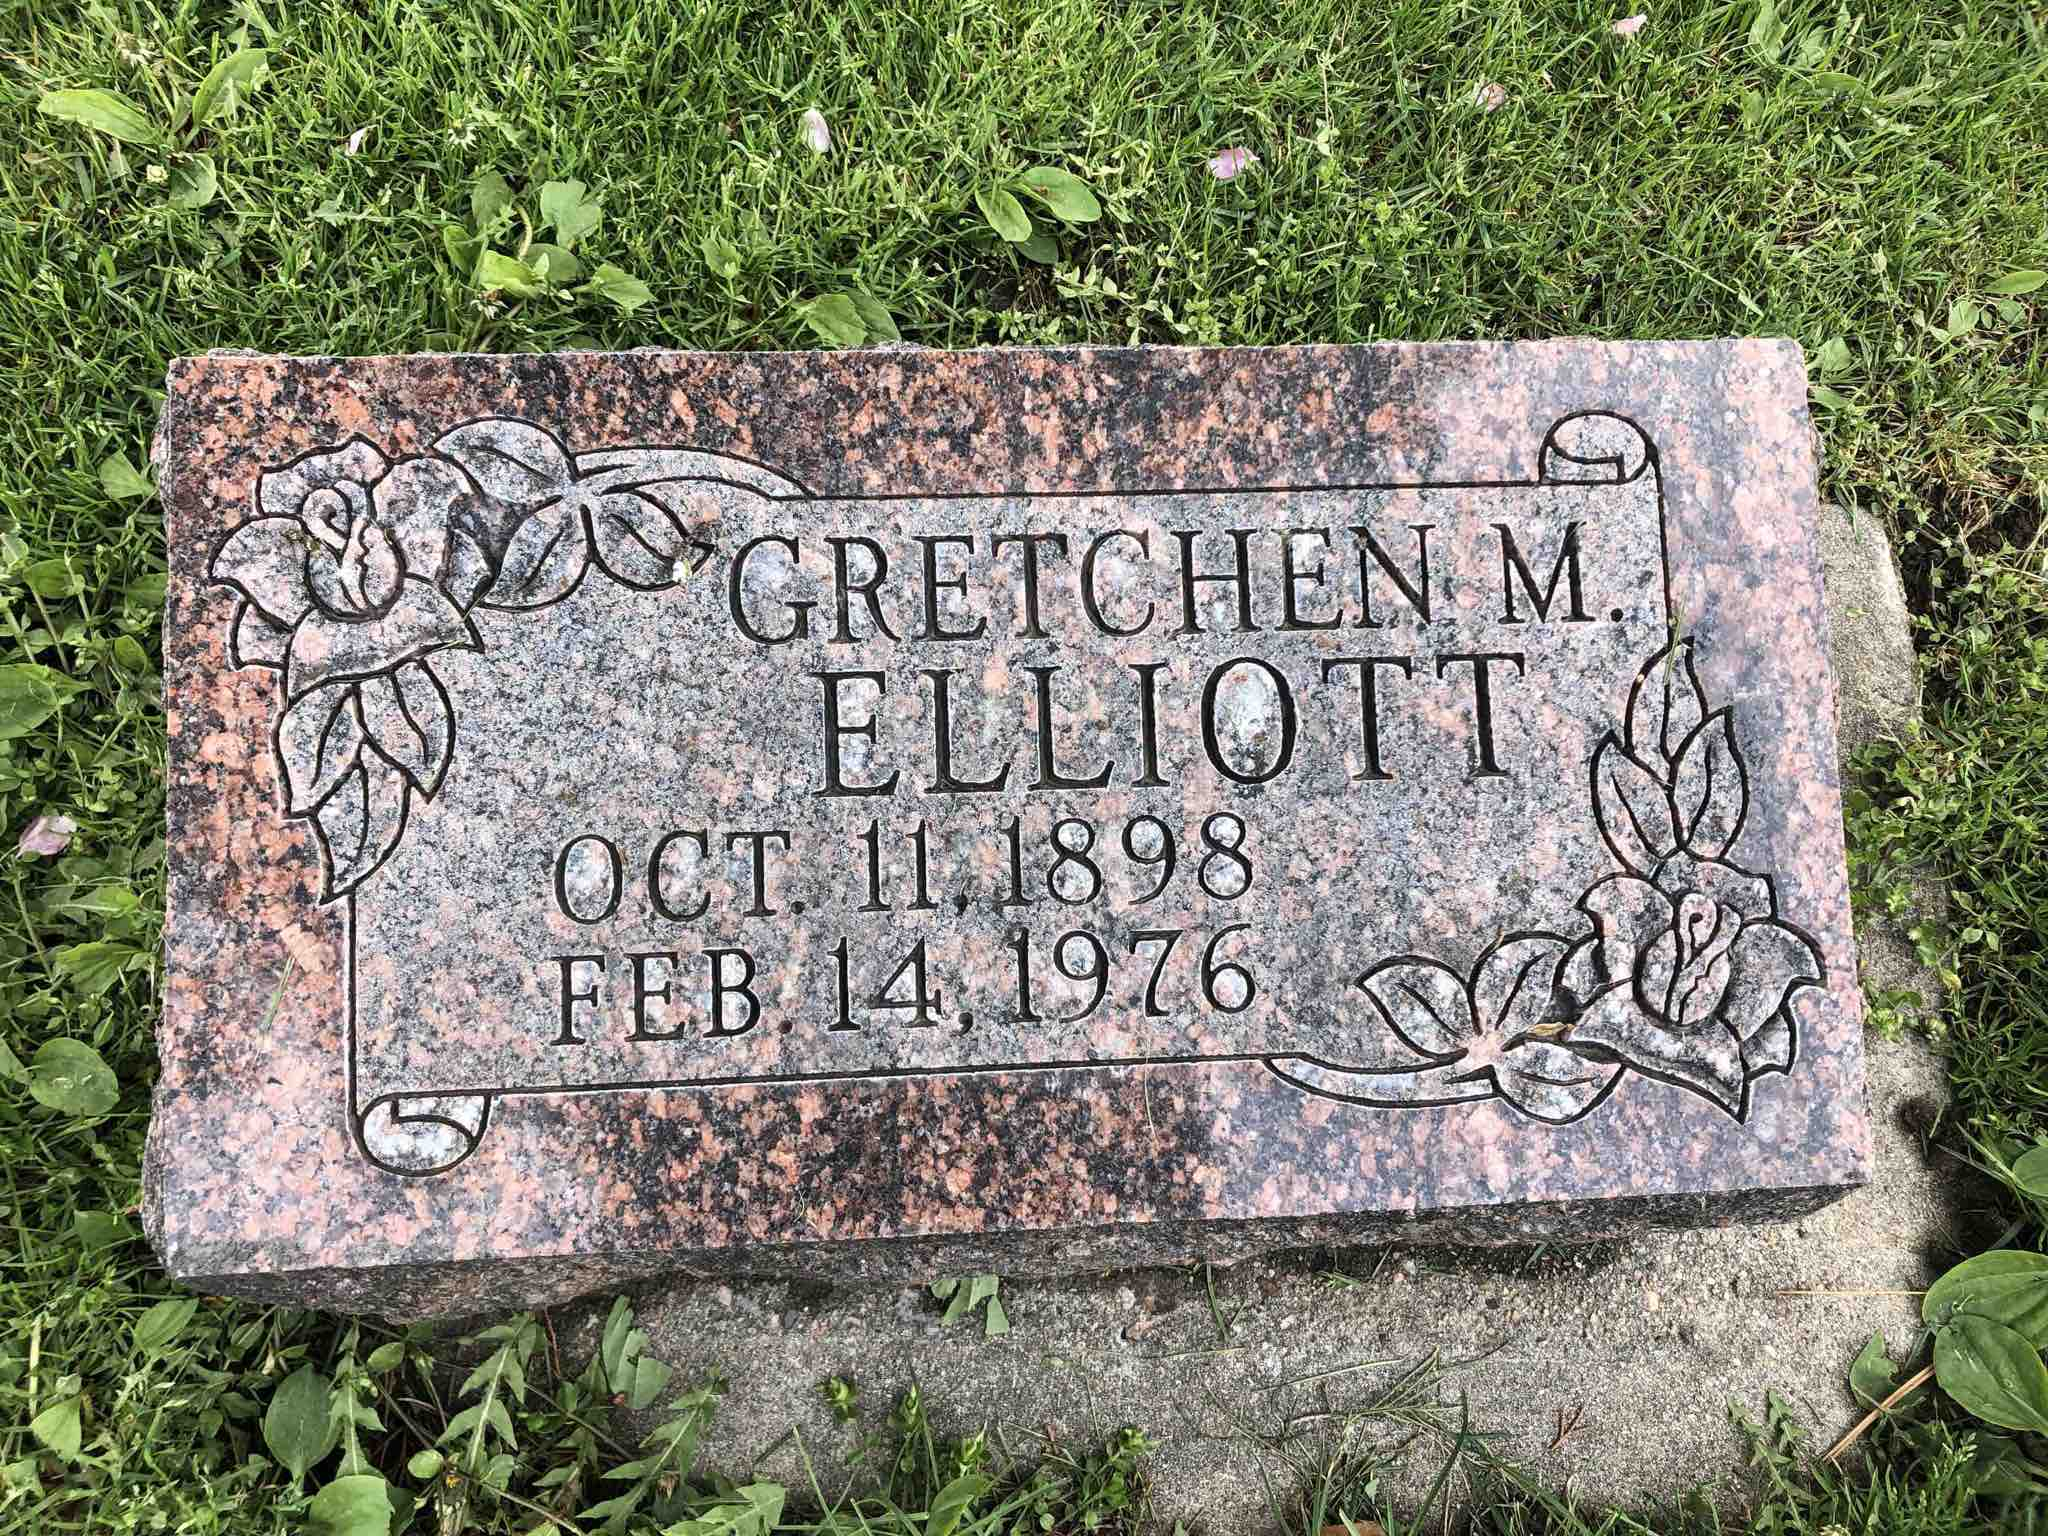flat: (131, 324, 1858, 1291)
